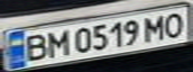0: (69, 25, 93, 54)
1: (106, 19, 127, 48)
5: (90, 21, 112, 52)
9: (121, 17, 145, 46)
B: (18, 32, 51, 63)
M: (139, 11, 172, 43), (42, 28, 69, 58)
O: (157, 9, 190, 38)
